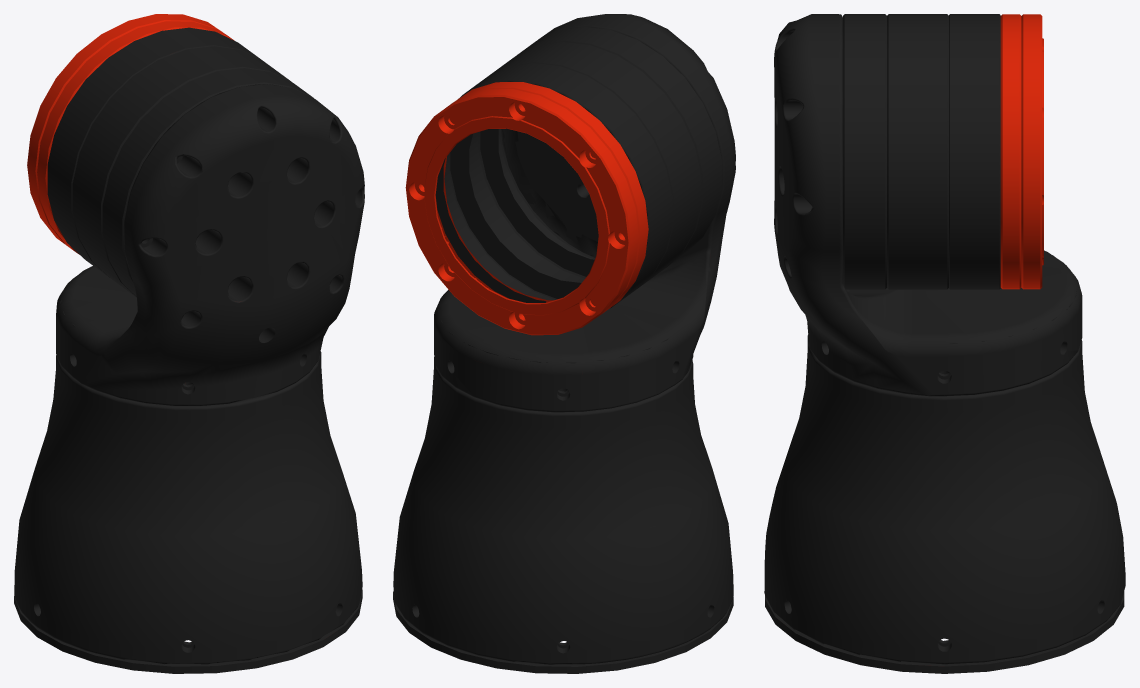
File: Robolink_RebeL_004.dae
3 views of the same model, side by side, from view 1: azimuth 30°, elevation 25°; view 2: azimuth 150°, elevation 25°; view 3: azimuth 270°, elevation 25° (orthographic). The views are drawn at different scales.
Visible parts, largest first — view 1: Robolink_RebeL_004; view 2: Robolink_RebeL_004; view 3: Robolink_RebeL_004.
Boxes of the visible parts, x1,y1,x2,y2 form: Robolink_RebeL_004: (14,14,364,673); Robolink_RebeL_004: (393,14,735,673); Robolink_RebeL_004: (764,14,1125,673).
Bounding box in the file's own units: 0.105 × 0.1048 × 0.183.
Materials: 1 (1 with a texture image).
